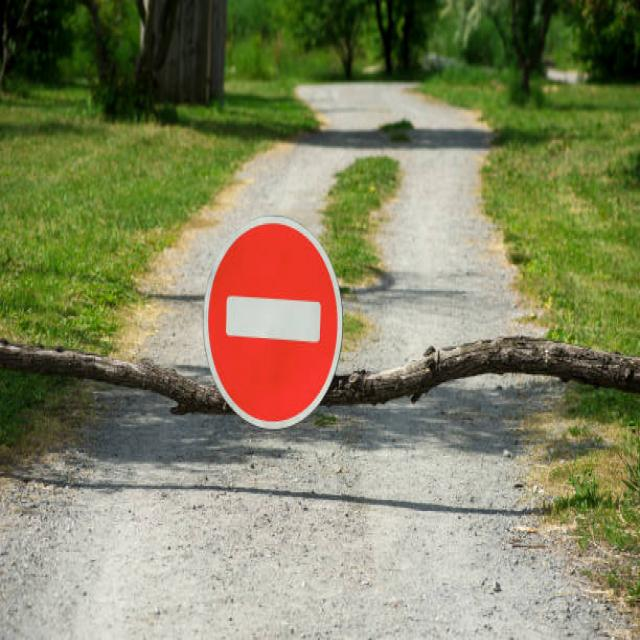do_not_enter: (201, 211, 345, 442)
